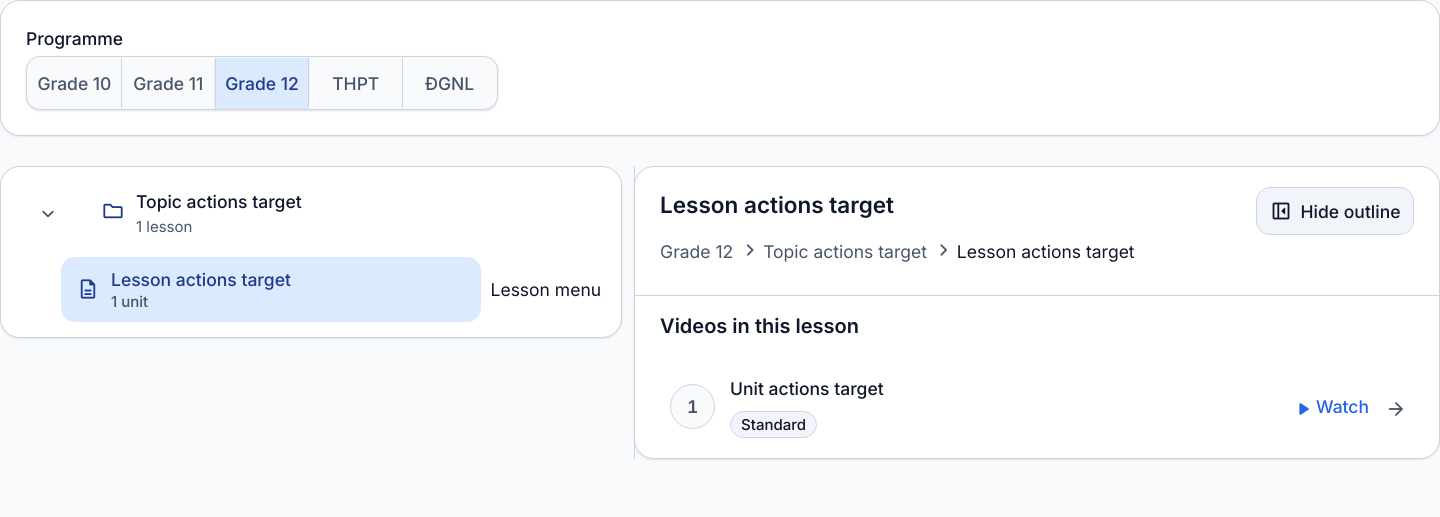
Test: CurriculumNavigator › toggles the desktop navigation without changing the selected lesson
The width and height of the screenshot is (1440, 517).
Click the button "Hide outline": (1335, 211) [1256,187,1414,235]
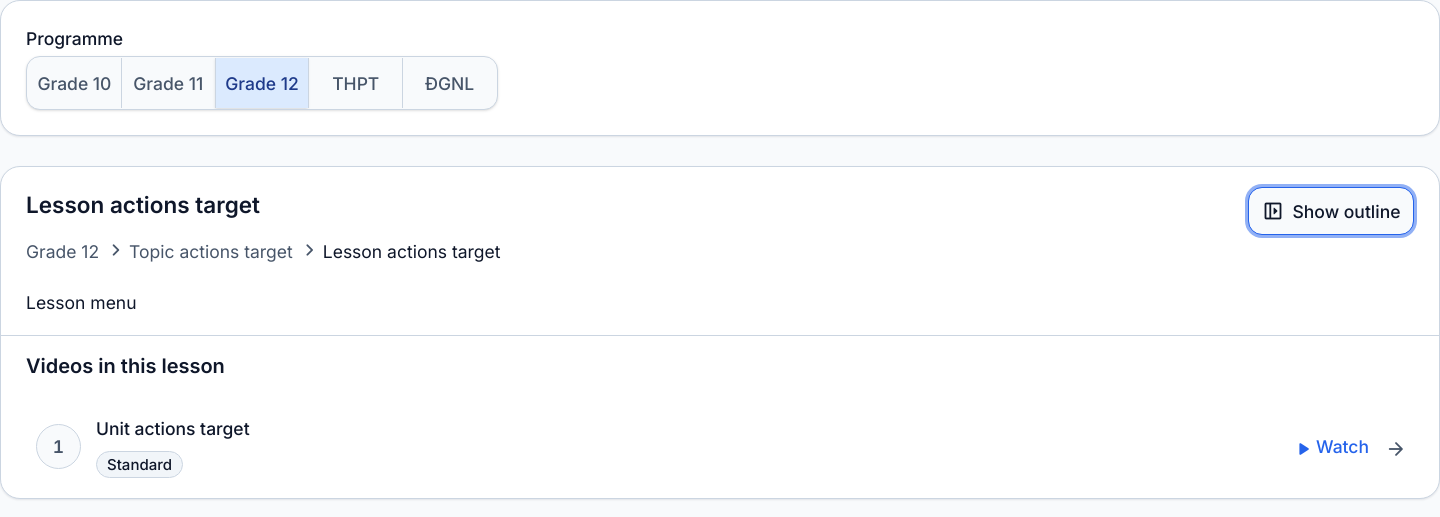
Expected: the heading "Lesson actions target" is shown, [26,191,260,218]
Now the button named "Hide outline" is collapsed
Click the button named "Hide outline": (1331, 211) [1248,187,1414,235]
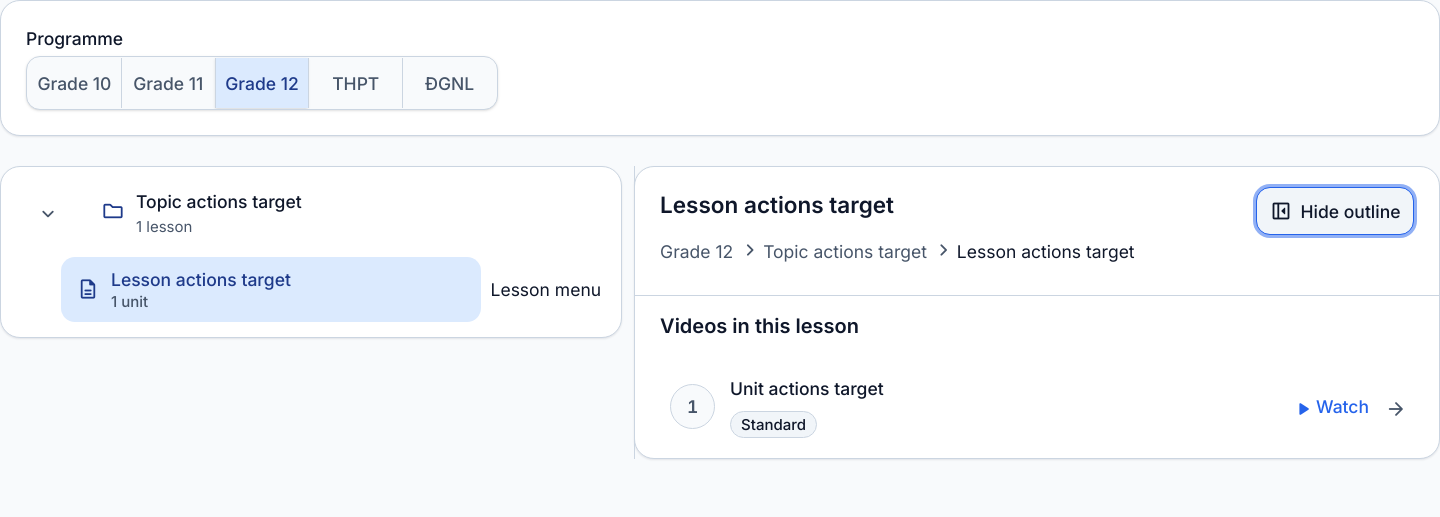
Now the button "Hide outline" is expanded, box [1256,187,1414,235]
